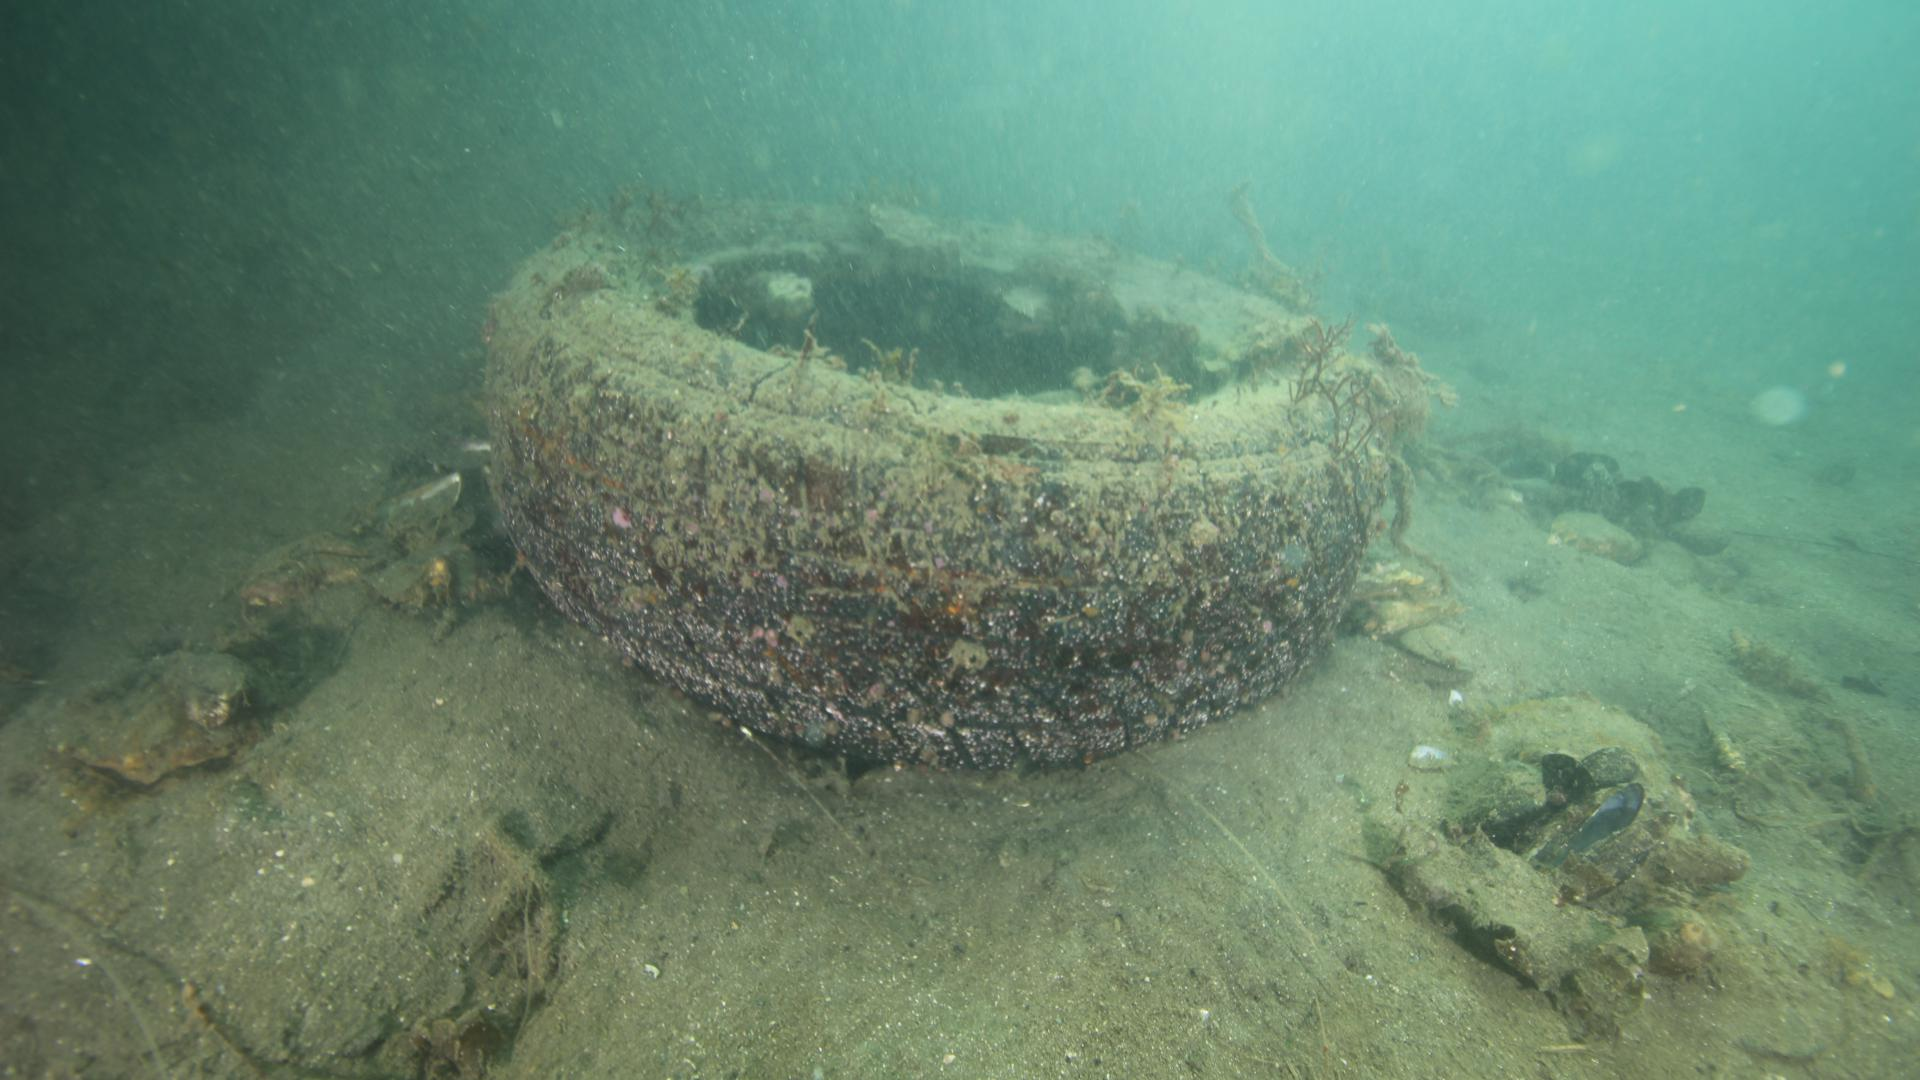tire: (480, 185, 1381, 767)
